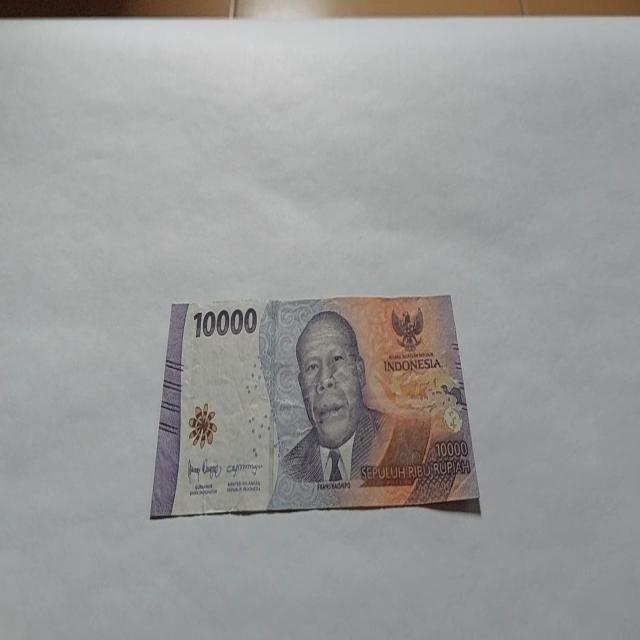Kertas: (150, 292, 482, 520), (192, 305, 258, 339)
